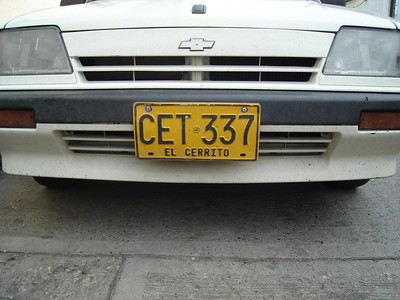placa_carro: (131, 101, 263, 164)
